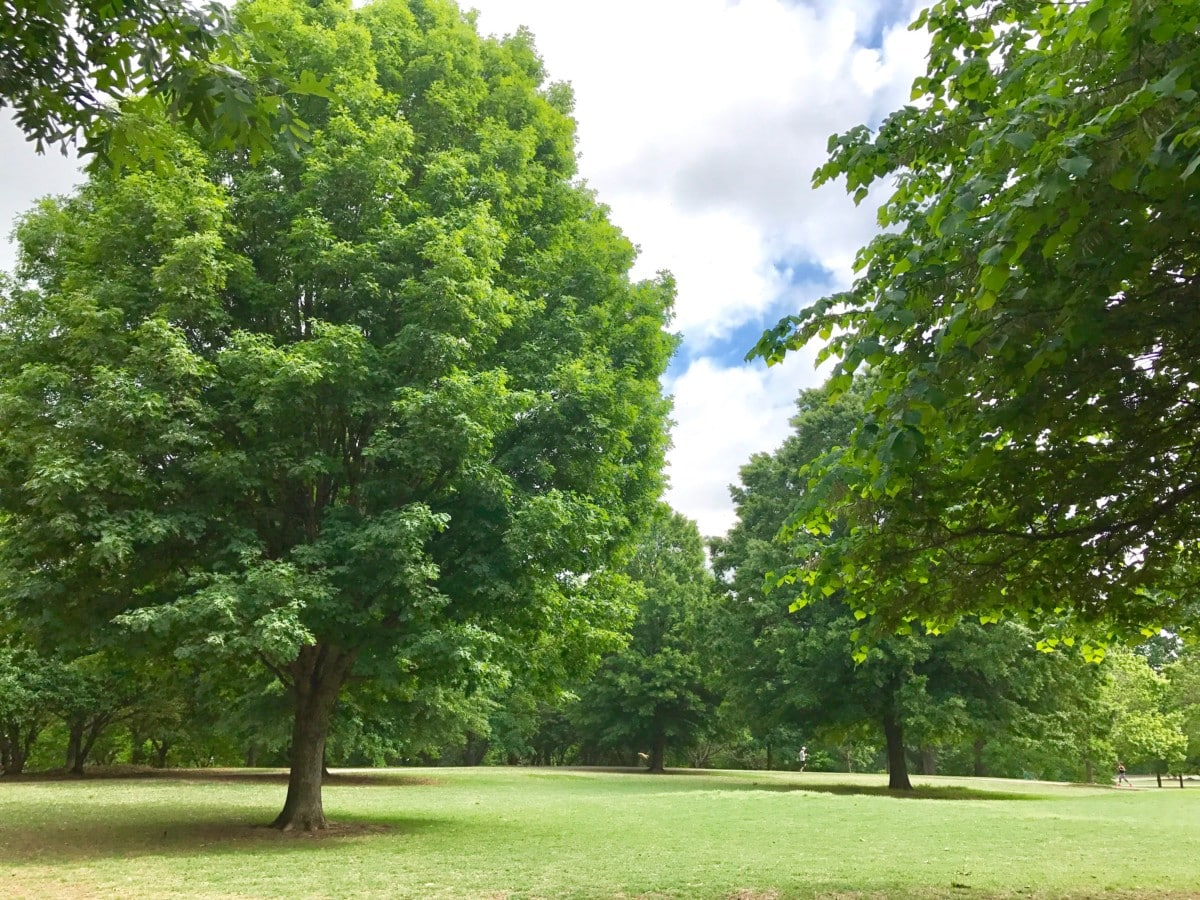tree: (12, 1, 653, 830), (743, 376, 1037, 791)
